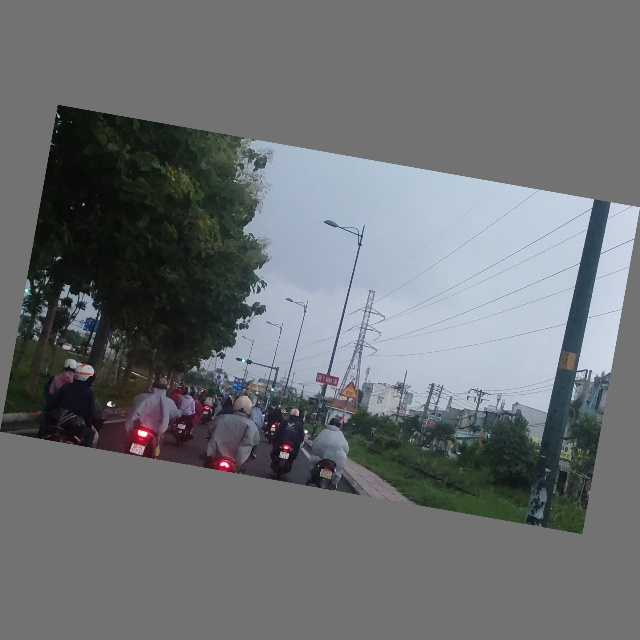W.210: (339, 381, 360, 400)
